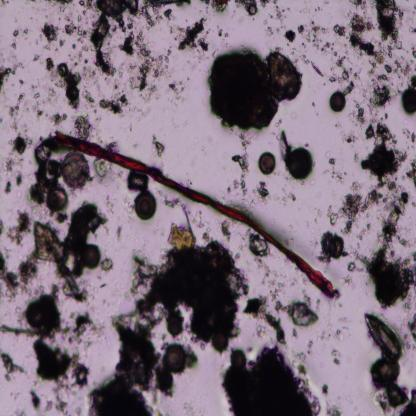Background material: (127, 215, 247, 353), (89, 312, 178, 416), (210, 50, 307, 132), (30, 203, 104, 300), (224, 346, 322, 414), (84, 0, 141, 78), (357, 246, 416, 310), (122, 31, 173, 99), (29, 335, 90, 389), (360, 124, 406, 190), (369, 359, 416, 415), (329, 184, 380, 232), (348, 15, 394, 68), (32, 137, 66, 208), (376, 188, 412, 255), (0, 244, 39, 299), (20, 292, 66, 338), (65, 311, 105, 348), (174, 14, 210, 54), (139, 0, 190, 27), (274, 298, 318, 329), (56, 63, 84, 111), (315, 227, 351, 264), (374, 0, 404, 44), (256, 262, 286, 300), (0, 132, 27, 173), (232, 138, 250, 195), (96, 94, 134, 118), (261, 311, 287, 345), (367, 77, 392, 111), (0, 349, 25, 382), (8, 209, 31, 243), (7, 90, 26, 131), (398, 73, 416, 116), (243, 293, 270, 321), (64, 19, 87, 50), (39, 22, 64, 50), (0, 60, 23, 90), (248, 229, 270, 257), (72, 114, 94, 140), (327, 156, 345, 185), (45, 394, 71, 414), (253, 176, 272, 203), (92, 157, 115, 179), (298, 338, 316, 365), (10, 27, 28, 51), (27, 386, 42, 414), (32, 90, 45, 121), (338, 126, 358, 146), (168, 82, 188, 102), (260, 20, 282, 38), (233, 1, 259, 16), (336, 58, 352, 82), (151, 135, 166, 160), (277, 188, 297, 206), (42, 54, 56, 79), (81, 87, 96, 110), (220, 218, 233, 244), (305, 25, 321, 46), (50, 110, 68, 128), (393, 60, 412, 76), (203, 0, 228, 12), (330, 346, 343, 369), (405, 159, 416, 186), (103, 192, 115, 216), (325, 398, 341, 416), (110, 221, 122, 244), (355, 105, 369, 124), (320, 329, 341, 341), (407, 315, 416, 341), (332, 23, 347, 38), (52, 0, 76, 9), (1, 178, 13, 196), (101, 256, 113, 274), (283, 28, 296, 44), (311, 61, 323, 78), (403, 129, 416, 144), (274, 5, 284, 24), (218, 25, 230, 40), (344, 80, 355, 96), (320, 41, 333, 54), (349, 0, 367, 8), (342, 274, 353, 287), (15, 172, 25, 186), (32, 50, 42, 63), (321, 383, 329, 397), (383, 62, 393, 73), (347, 261, 356, 272), (288, 329, 297, 340), (0, 220, 5, 238), (0, 0, 11, 8), (297, 23, 305, 33)
Cotton: (52, 130, 335, 298)
Diatom: (363, 311, 402, 360), (60, 150, 90, 188), (287, 146, 314, 182), (132, 188, 158, 221), (164, 341, 186, 374), (47, 185, 67, 212), (259, 150, 277, 176), (83, 244, 100, 271), (329, 89, 346, 114), (232, 348, 248, 370)
